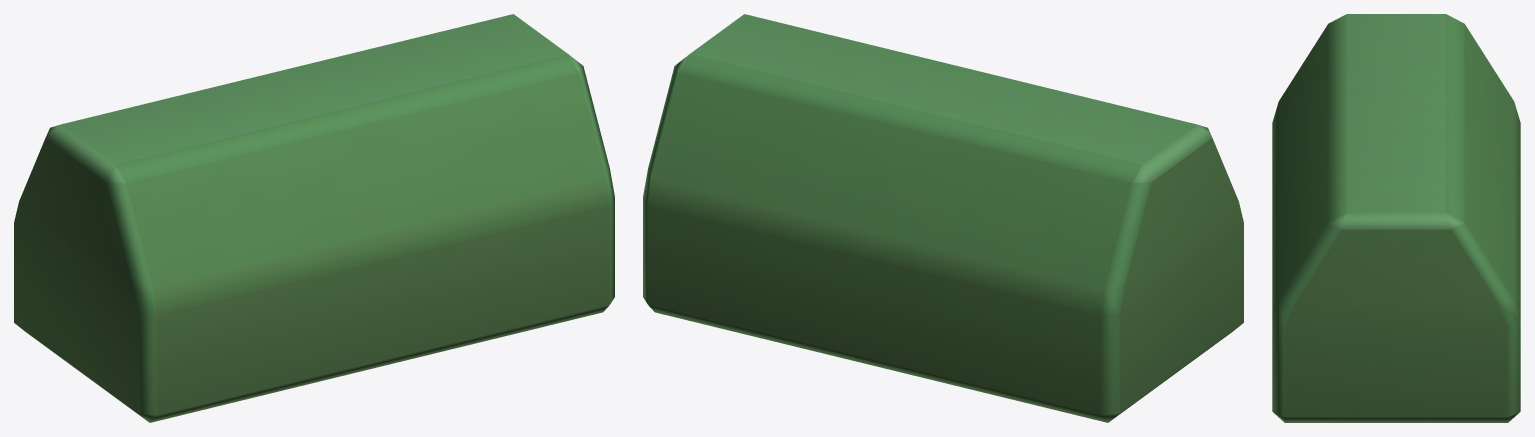
File: railing_big_straight_double.fbx
3 renders of one model, left to right at view 1: azimuth 30°, elevation 25°; view 2: azimuth 150°, elevation 25°; view 3: azimuth 270°, elevation 25°, orthographic. The views are drawn at different scales.
Parts seen in each view (by area): view 1: railing_big_straight_double; view 2: railing_big_straight_double; view 3: railing_big_straight_double.
Part boxes in pixels (bbox=[...]): railing_big_straight_double: bbox=[14, 14, 614, 422]; railing_big_straight_double: bbox=[643, 14, 1243, 422]; railing_big_straight_double: bbox=[1272, 14, 1520, 422].
Size of the model in its own units: 200 by 93.3 by 100.
